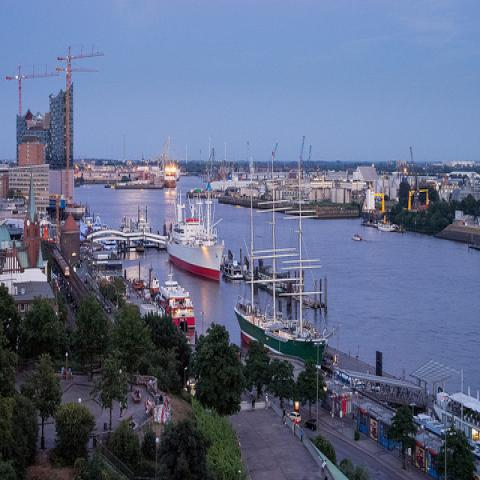car: (305, 417, 319, 431), (288, 411, 301, 423), (104, 305, 111, 313), (96, 294, 101, 302)
